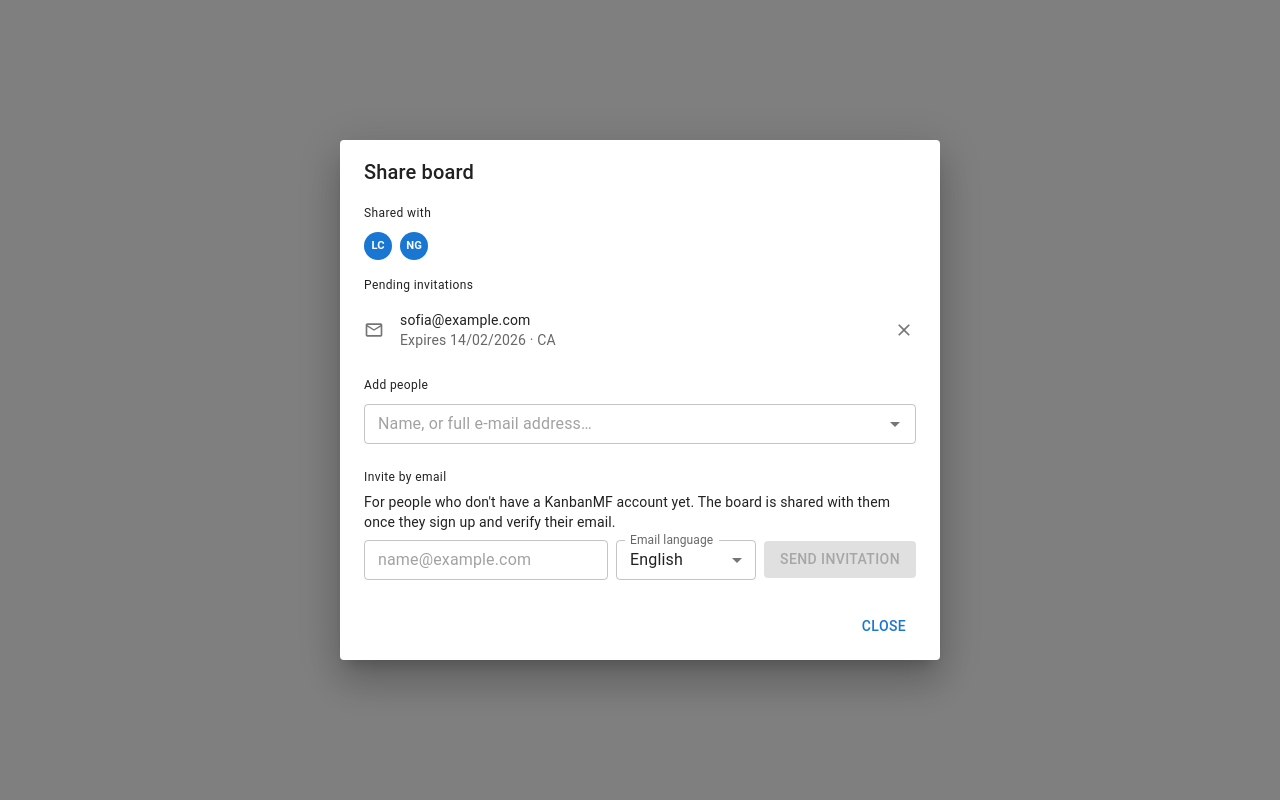
it: ShareBoardDialog › the people it is shared with › says nothing of cards when they are on none
Step 1. Click the button with aria-label "Remove Liam Chen from this board" → x=378, y=246, box [364, 232, 392, 260]
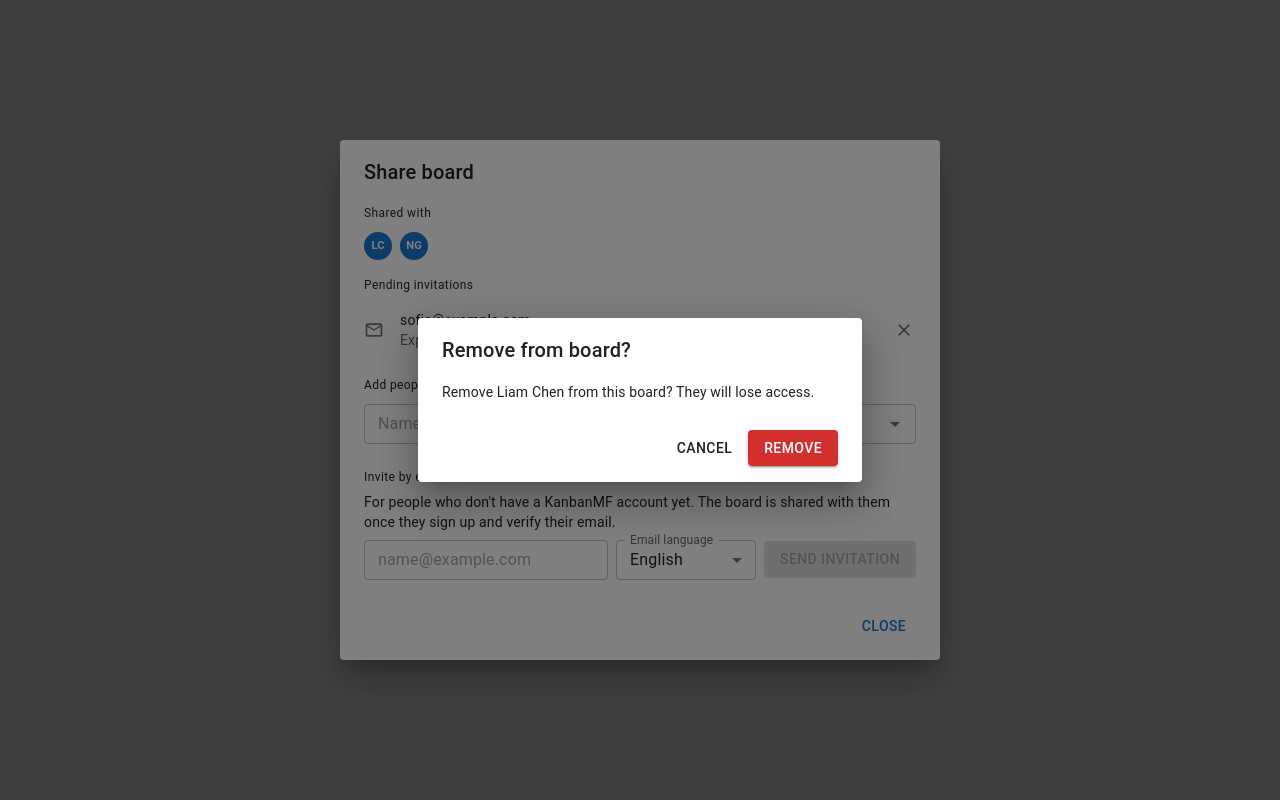
Now the button "Remove" is enabled, box [748, 430, 838, 466]
